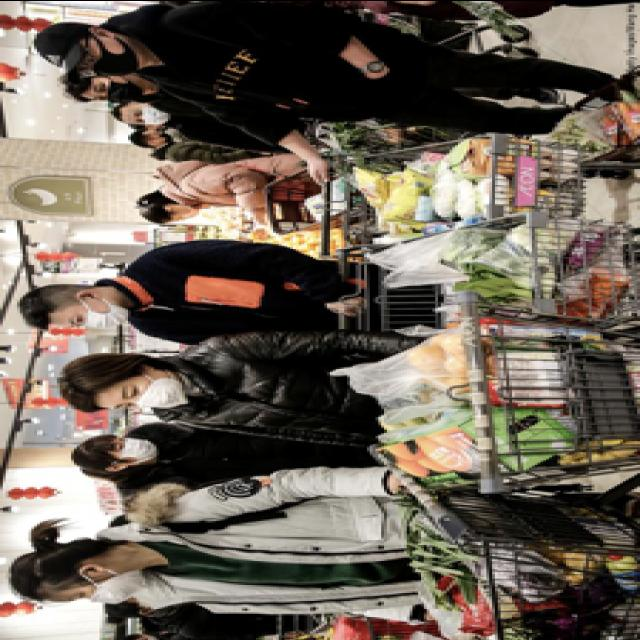mask: (108, 370, 188, 410), (65, 566, 145, 604), (68, 35, 140, 75), (60, 296, 128, 330), (86, 75, 136, 104), (106, 438, 156, 464), (128, 102, 170, 124), (168, 205, 196, 222), (148, 131, 174, 144)
